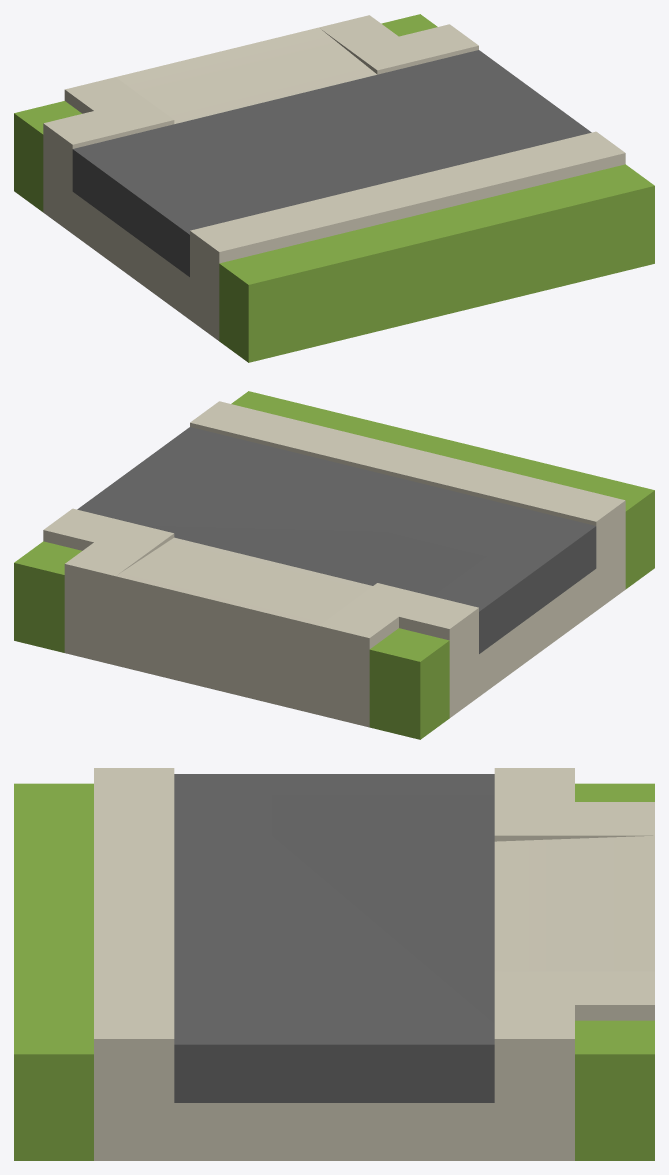
Rendered from road-one-way-sidewalk-onramp-grass.obj.
3 renders of one model, top to bottom at view 1: azimuth 30°, elevation 25°; view 2: azimuth 150°, elevation 25°; view 3: azimuth 270°, elevation 25°, orthographic. The views are drawn at different scales.
Parts seen in each view (by area): view 1: Mesh1_Group1_Model.148; view 2: Mesh1_Group1_Model.148; view 3: Mesh1_Group1_Model.148.
Part boxes in pixels (x1,y1,x2,y2): Mesh1_Group1_Model.148: (14, 14, 654, 362); Mesh1_Group1_Model.148: (14, 391, 654, 739); Mesh1_Group1_Model.148: (14, 768, 654, 1160).
Bounding box in the file's own units: 3 × 0.63 × 3.
